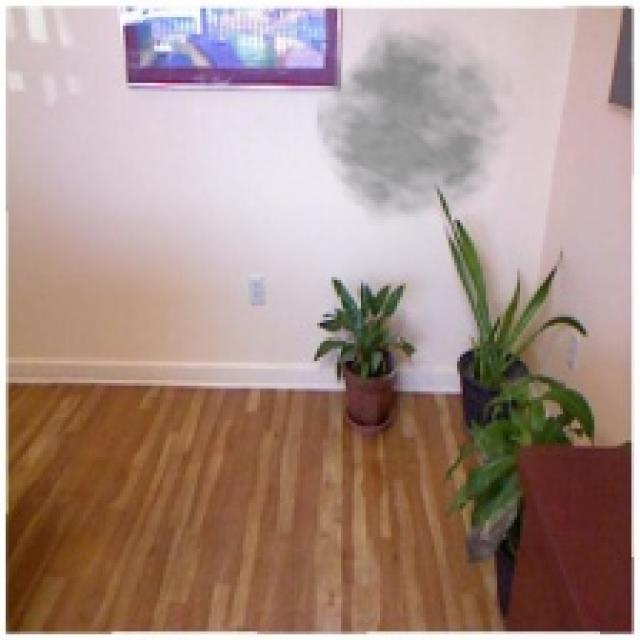smoke: (314, 11, 526, 226)
